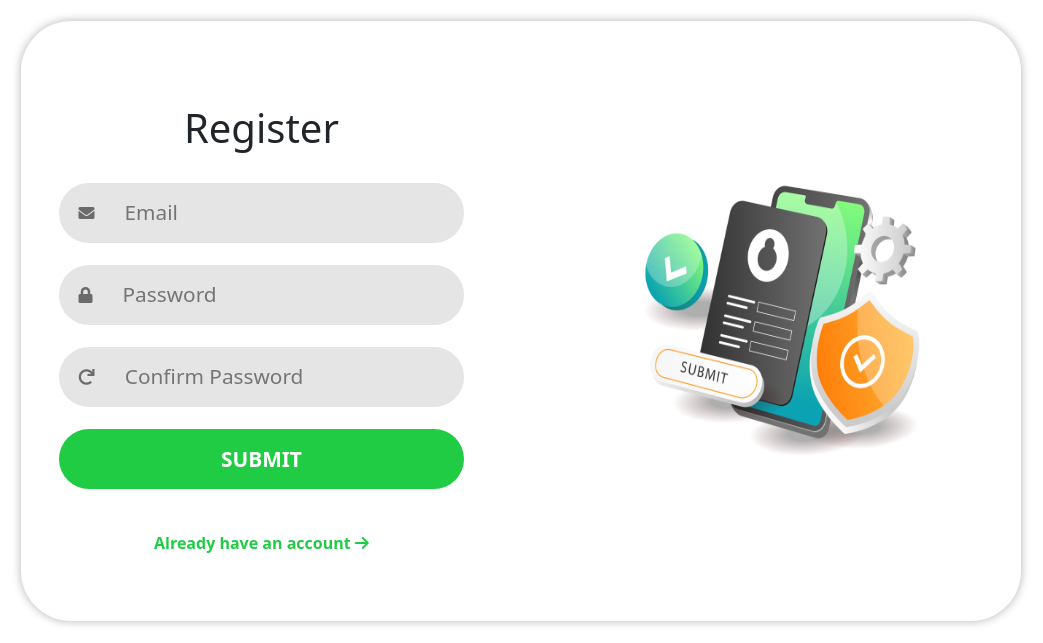
Register Component › should display error when password's pattern is invalid
Type "Pass123" into the password field named "password". click: (266, 295)
box: [92,279,440,310]
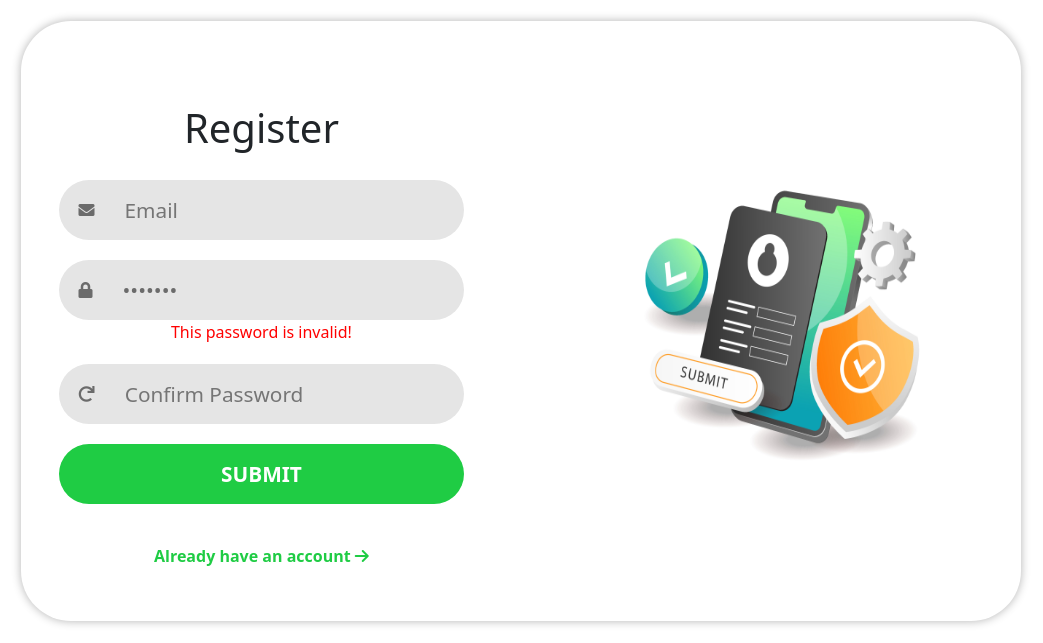
Expected: the text "This password is invalid!" is shown, [171,322,352,344]
